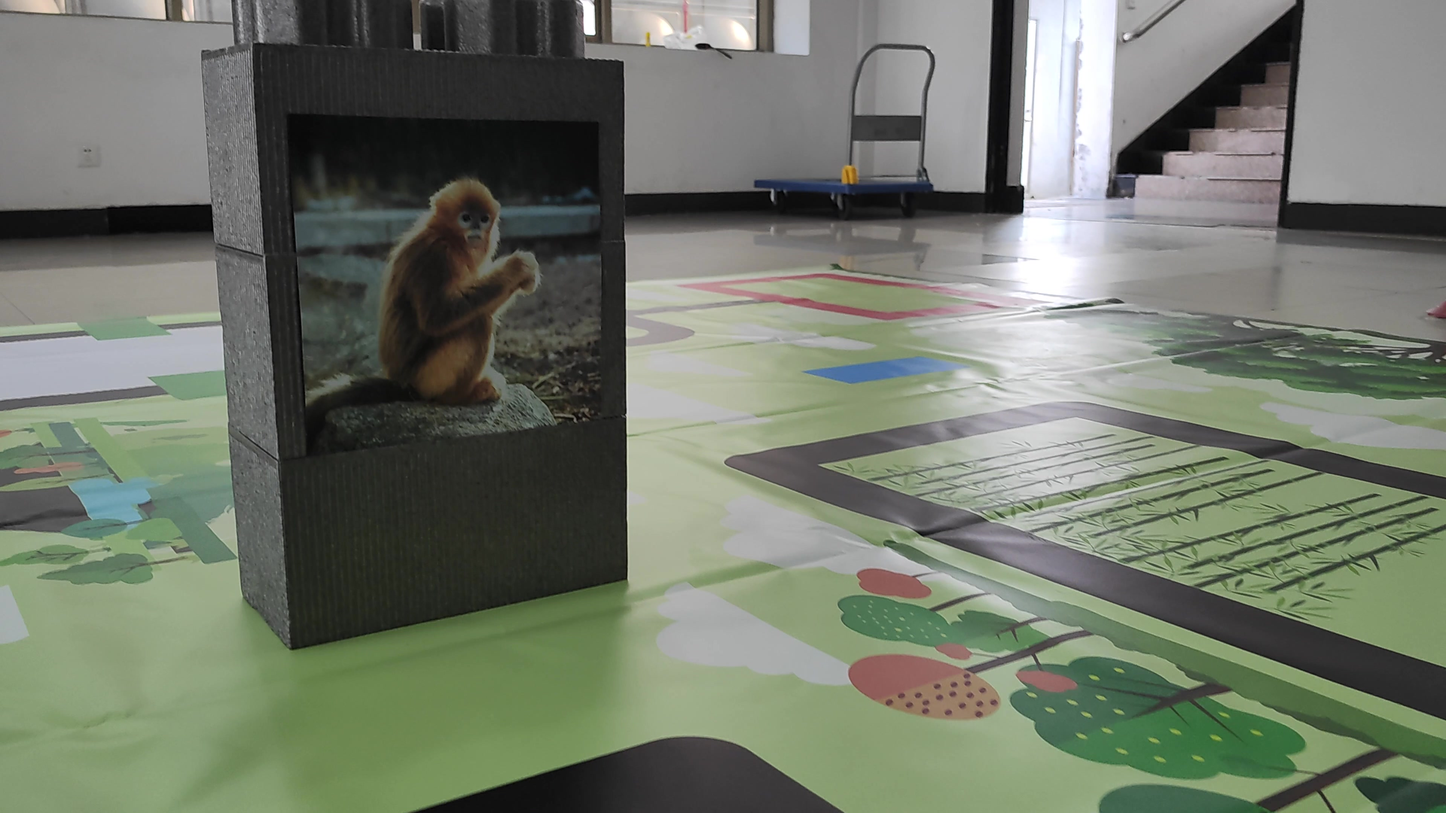monkey: (300, 155, 564, 424)
